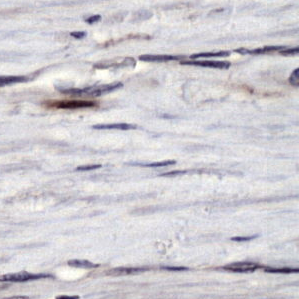Lymphocyte: (53, 98, 100, 112)
